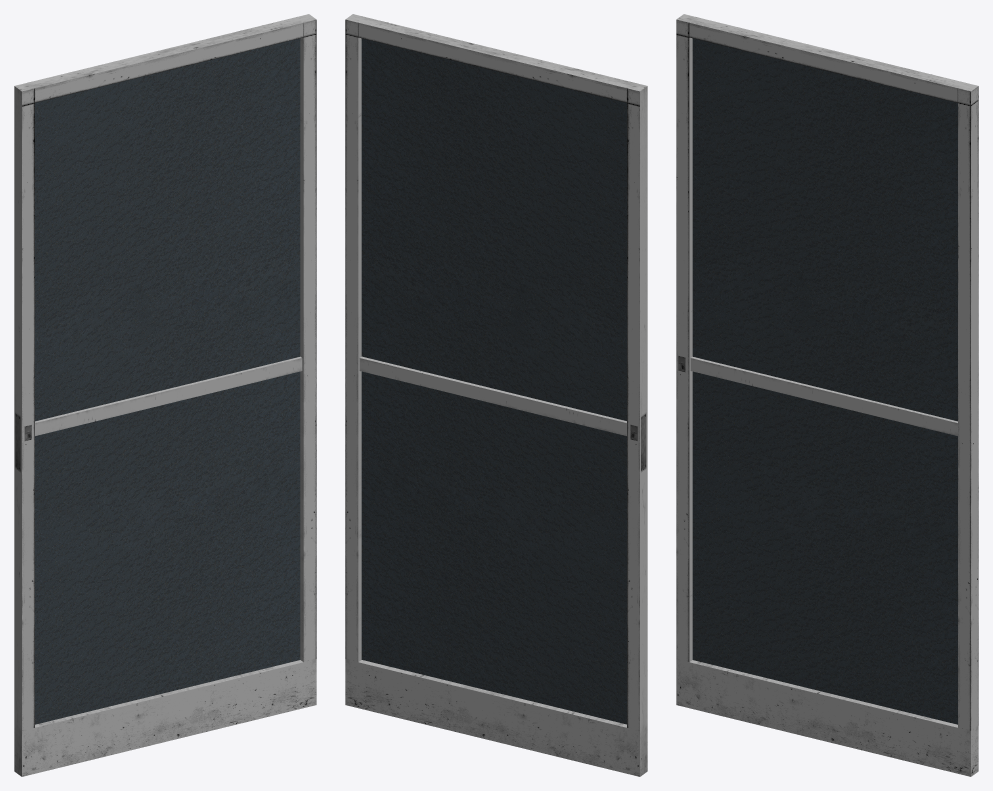
File: glass_auto_door_double.fbx
The picture shows the model from 3 angles, left to right: view 1: azimuth 30°, elevation 25°; view 2: azimuth 150°, elevation 25°; view 3: azimuth 330°, elevation 25°; orthographic projection.
Parts seen in each view (by area): view 1: glass_auto_door_glass, glass_auto_door; view 2: glass_auto_door_glass, glass_auto_door; view 3: glass_auto_door_glass, glass_auto_door.
Part boxes in pixels (box(x1,y1,x2,y2)): glass_auto_door_glass: box(35, 38, 300, 724); glass_auto_door: box(14, 14, 316, 776); glass_auto_door_glass: box(361, 38, 626, 724); glass_auto_door: box(345, 14, 647, 776); glass_auto_door_glass: box(692, 38, 957, 724); glass_auto_door: box(676, 14, 978, 776).
Bounding box in the file's own units: 0.9 × 2 × 0.043.
